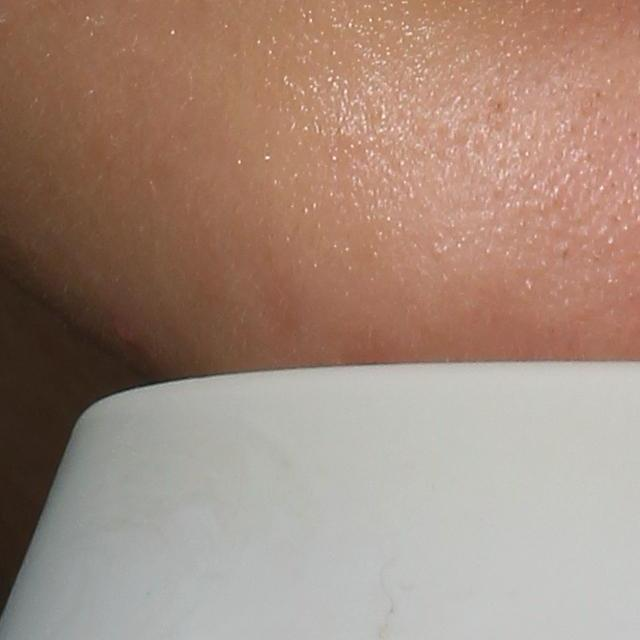papule: (115, 316, 140, 349)
